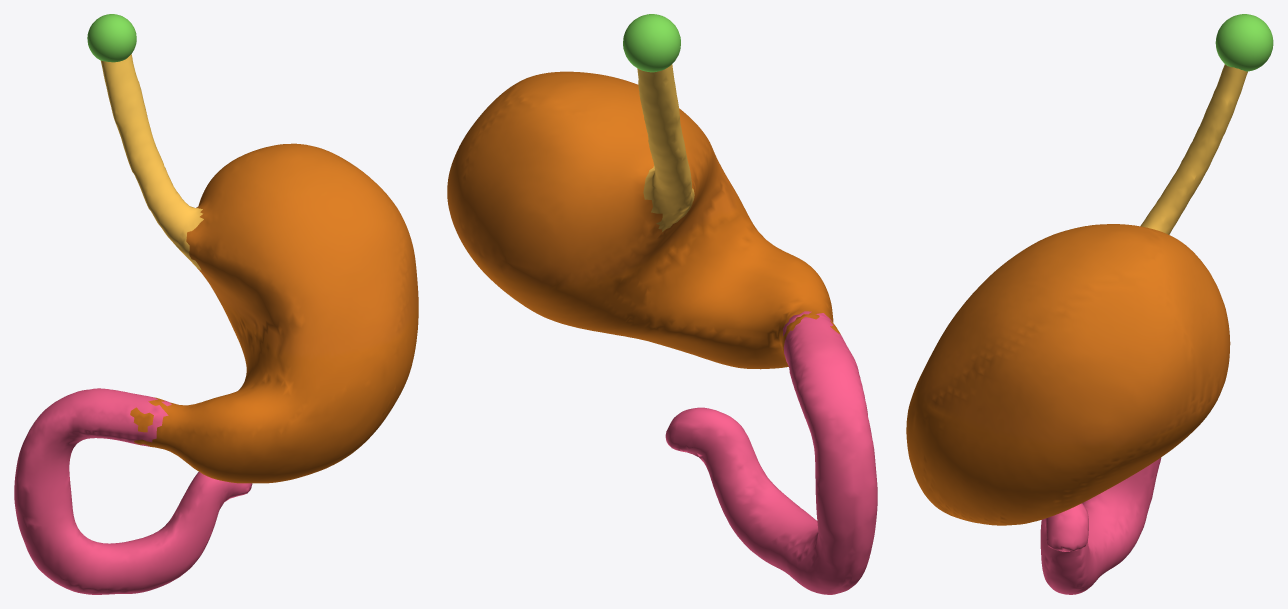
The model's file is kd-stomach.b7e9c5c4.glb.
The picture shows the model from 3 angles, left to right: view 1: azimuth 30°, elevation 25°; view 2: azimuth 150°, elevation 25°; view 3: azimuth 270°, elevation 25°; orthographic projection. The views are drawn at different scales.
Parts seen in each view (by area): view 1: Stomach, Small_Intestine_Start, Food_Pipe, Food_Ball; view 2: Stomach, Small_Intestine_Start, Food_Pipe, Food_Ball; view 3: Stomach, Small_Intestine_Start, Food_Pipe, Food_Ball.
Boxes of the visible parts, x1,y1,x2,y2 form: Stomach: [130, 143, 418, 483]; Small_Intestine_Start: [14, 388, 252, 594]; Food_Pipe: [101, 54, 203, 270]; Food_Ball: [87, 14, 136, 62]; Stomach: [447, 71, 840, 369]; Small_Intestine_Start: [665, 311, 877, 594]; Food_Pipe: [637, 64, 694, 231]; Food_Ball: [623, 14, 680, 72]; Stomach: [906, 224, 1230, 525]; Small_Intestine_Start: [1040, 457, 1161, 594]; Food_Pipe: [1140, 64, 1247, 234]; Food_Ball: [1215, 14, 1273, 71].
Size of the model in its own units: 0.1701 by 0.2271 by 0.1266.
